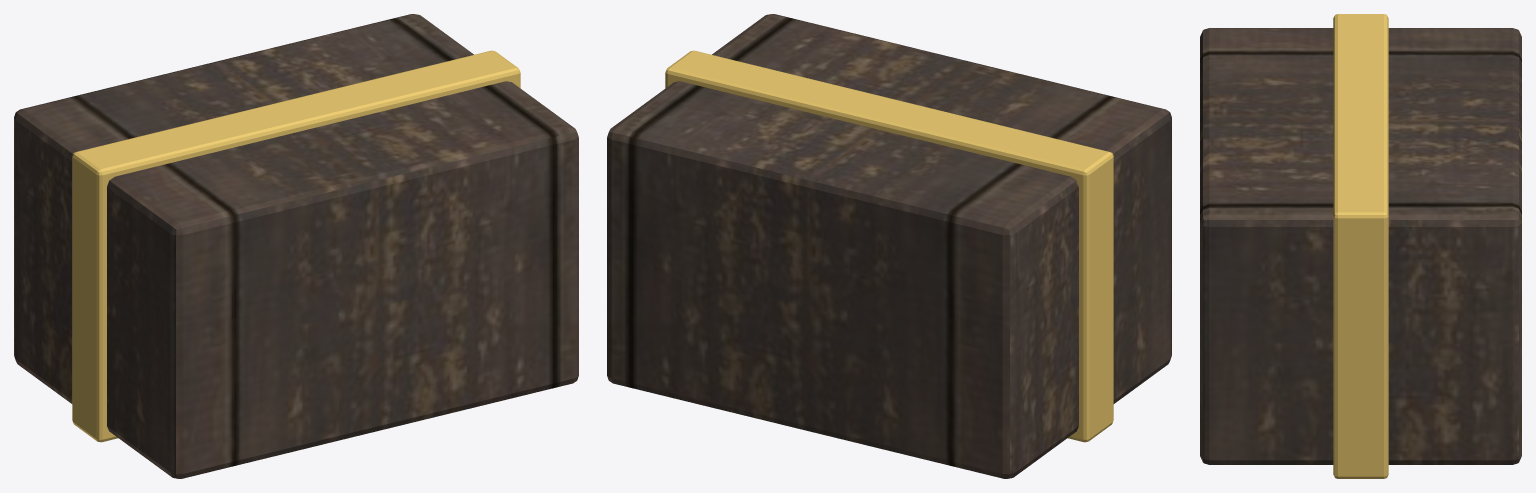
The model's file is electric_kit.glb.
3 renders of one model, left to right at view 1: azimuth 30°, elevation 25°; view 2: azimuth 150°, elevation 25°; view 3: azimuth 270°, elevation 25°, orthographic. The views are drawn at different scales.
Parts seen in each view (by area): view 1: crate, band; view 2: crate, band; view 3: crate, band.
Part boxes in pixels (x1=…): crate: x1=14, y1=14, x2=578, y2=478; band: x1=72, y1=50, x2=520, y2=442; crate: x1=607, y1=14, x2=1171, y2=478; band: x1=665, y1=50, x2=1113, y2=442; crate: x1=1200, y1=28, x2=1521, y2=464; band: x1=1333, y1=14, x2=1388, y2=478.
Size of the model in its own units: 0.52 by 0.32 by 0.35.
2 materials, 1 textured.
